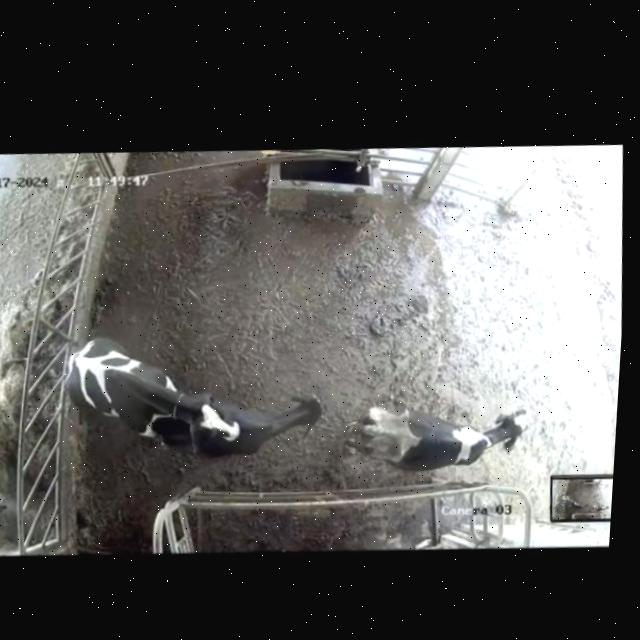ride: (48, 322, 252, 477)
stand: (331, 350, 549, 500), (156, 356, 340, 483)
